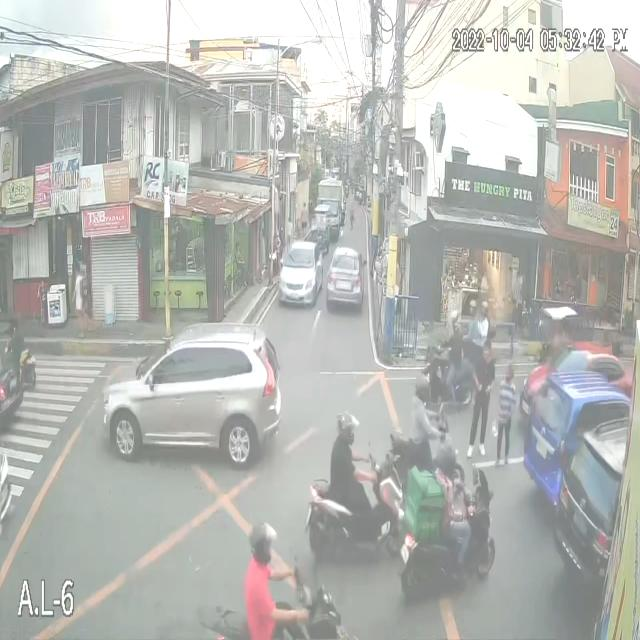Full-Faced: (433, 431, 456, 465), (412, 369, 430, 399), (448, 309, 461, 329), (467, 298, 478, 316), (479, 300, 489, 318)
Half-Faced: (246, 516, 281, 568), (333, 405, 358, 442)
